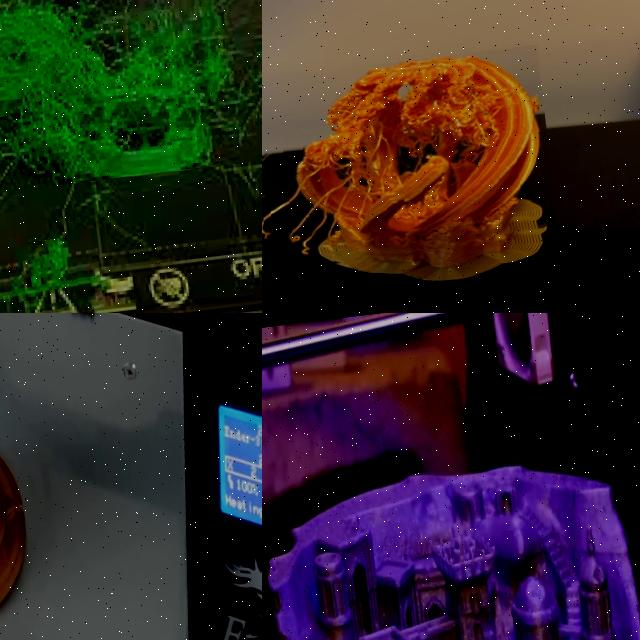spaghetti: (262, 43, 561, 275), (11, 237, 102, 313)
